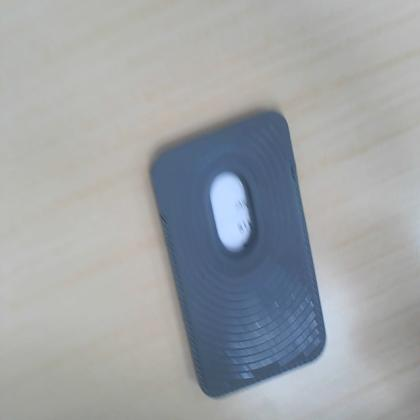pics: (151, 112, 325, 396)
